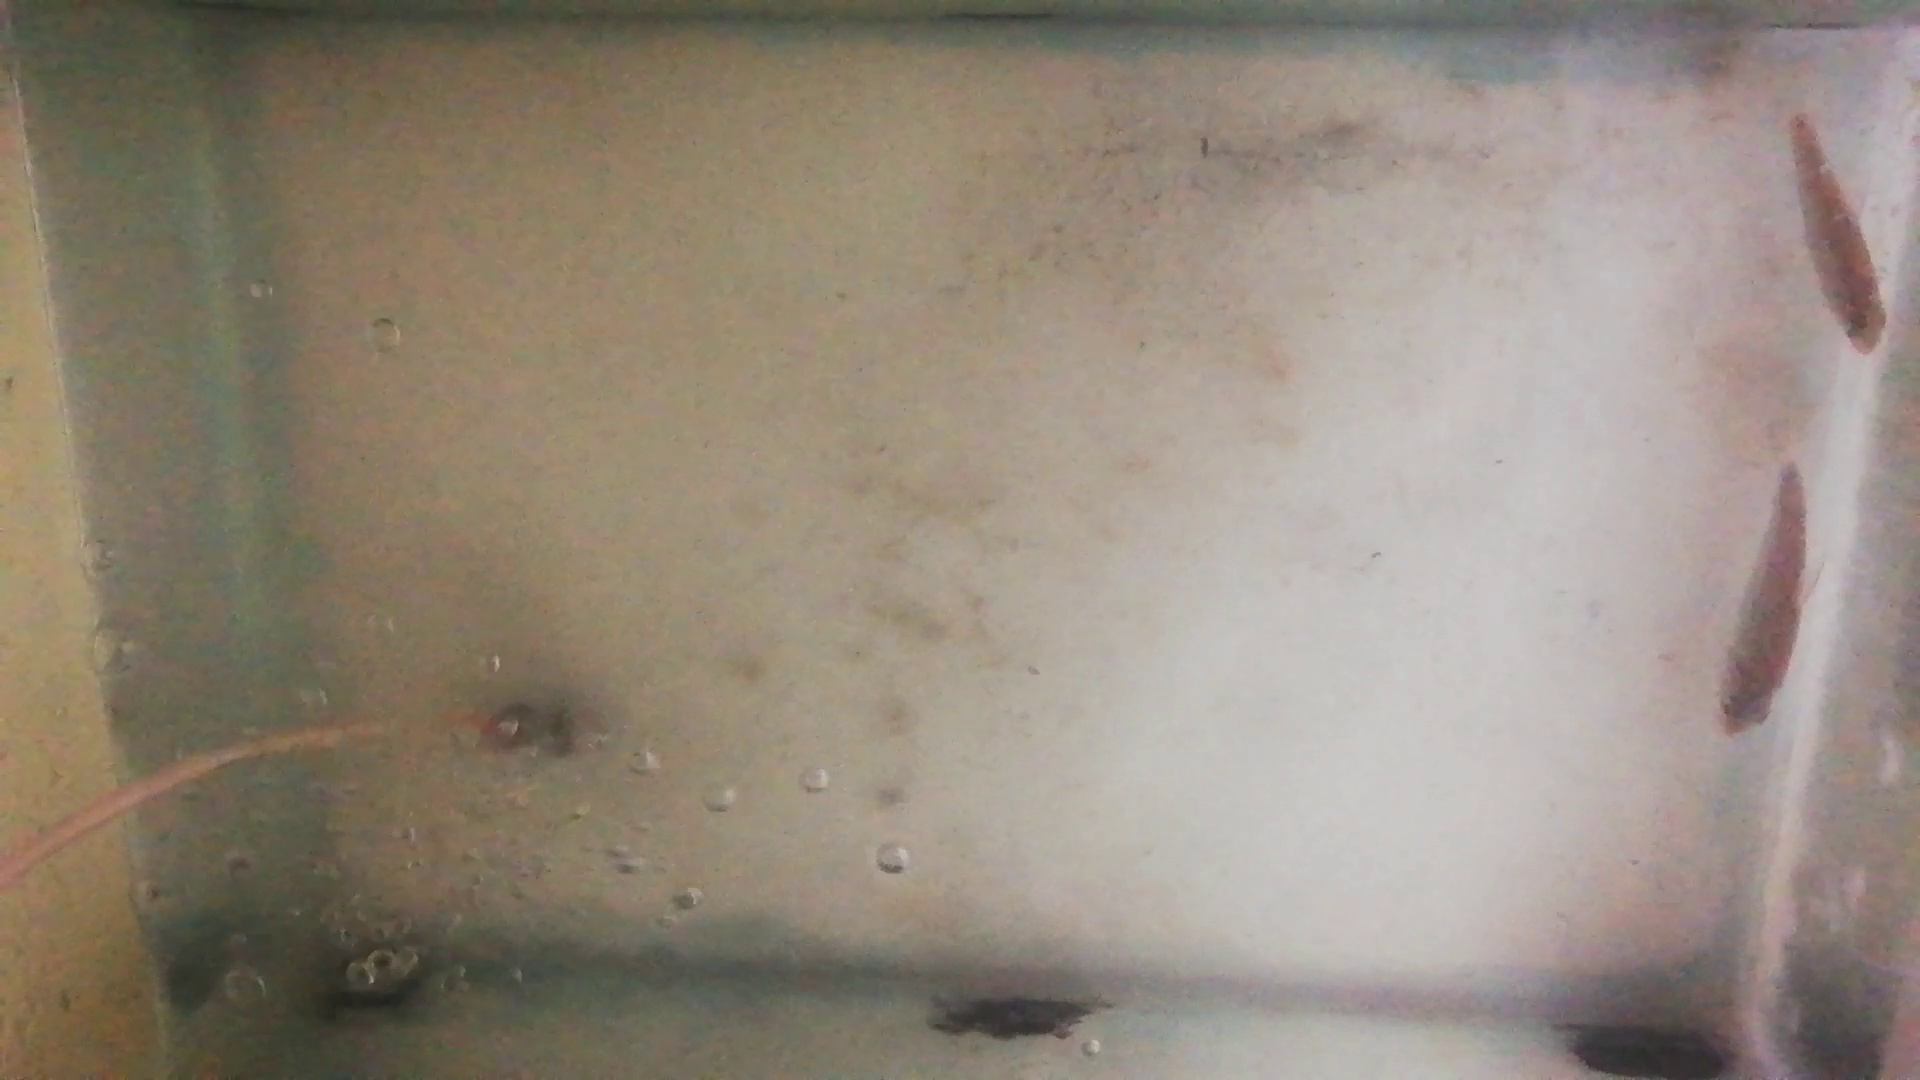fish: (1709, 465, 1811, 738), (1785, 111, 1888, 357)
